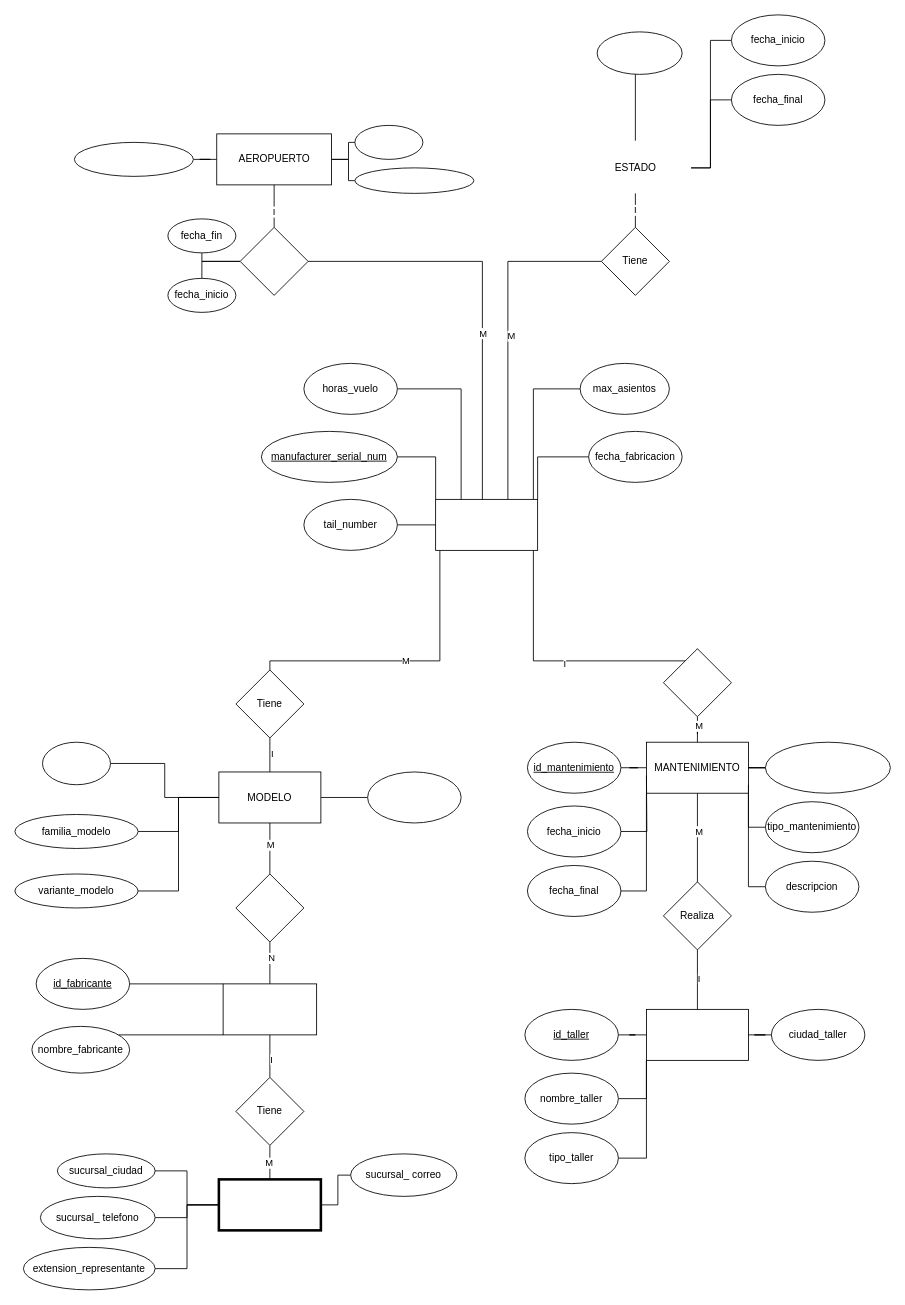
This 905x1305 diagram has some shape labels left out. The box of each missing label's shape, as (x1, y1, x2, y2) in pixels:
AERONAVE: (435, 499, 538, 550)
Basado: (239, 227, 308, 295)
ciudad_aeropuerto: (354, 167, 474, 193)
clase_aeronave: (367, 771, 461, 823)
condicion: (596, 31, 682, 74)
costo_mantenimiento: (765, 741, 890, 793)
FABRICANTE: (222, 983, 317, 1035)
iata: (354, 125, 423, 159)
id_modelo: (42, 741, 110, 785)
nombre_aeropuerto: (74, 142, 193, 176)
Produce: (235, 873, 304, 942)
Recibe: (663, 648, 731, 717)
SUCURSAL: (217, 1178, 322, 1231)
TALLER: (646, 1009, 748, 1060)
